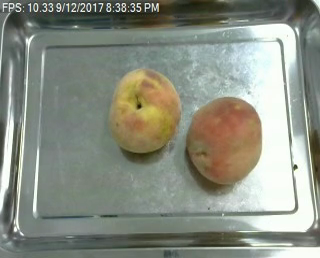Peach: (187, 94, 262, 185), (107, 68, 181, 154)
